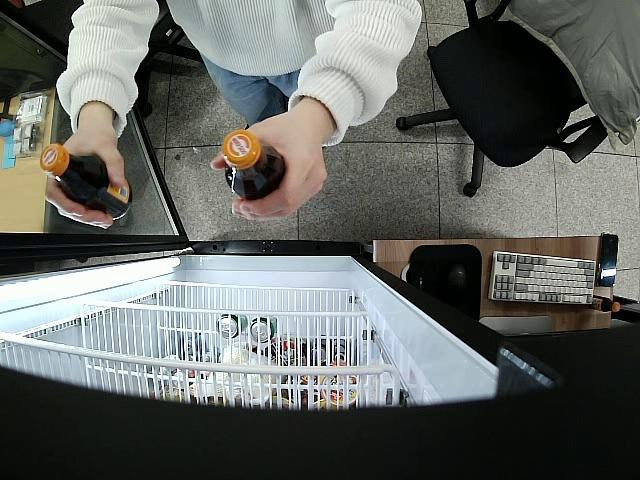00_hand: (209, 117, 327, 221), (44, 133, 127, 230)
17_vita500: (39, 145, 133, 221), (224, 130, 287, 203)
